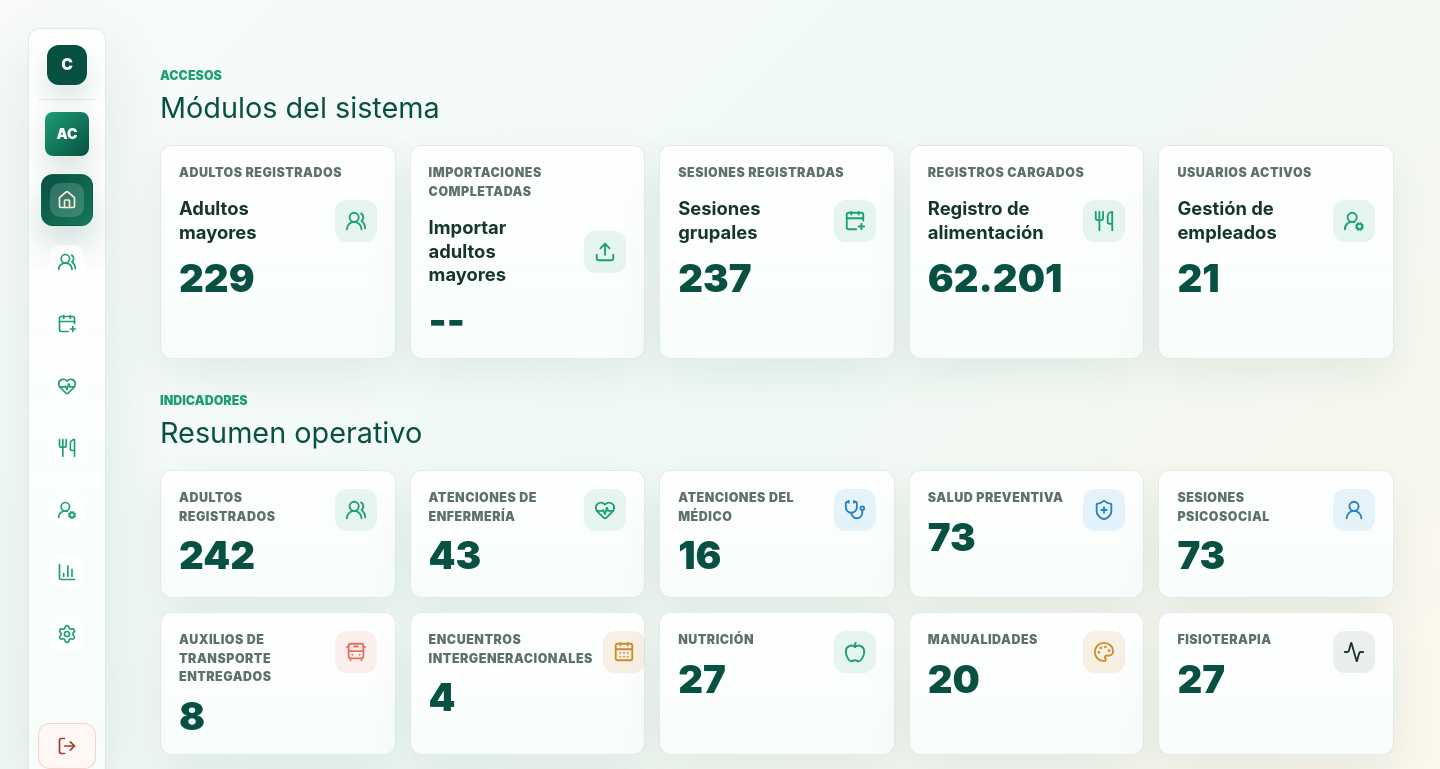
it: App home dashboard › navigates the nursing indicator to the nursing module
The width and height of the screenshot is (1440, 769).
Click the button "Atenciones de enfermería 43".
click(527, 534)  # box [410,470,645,598]
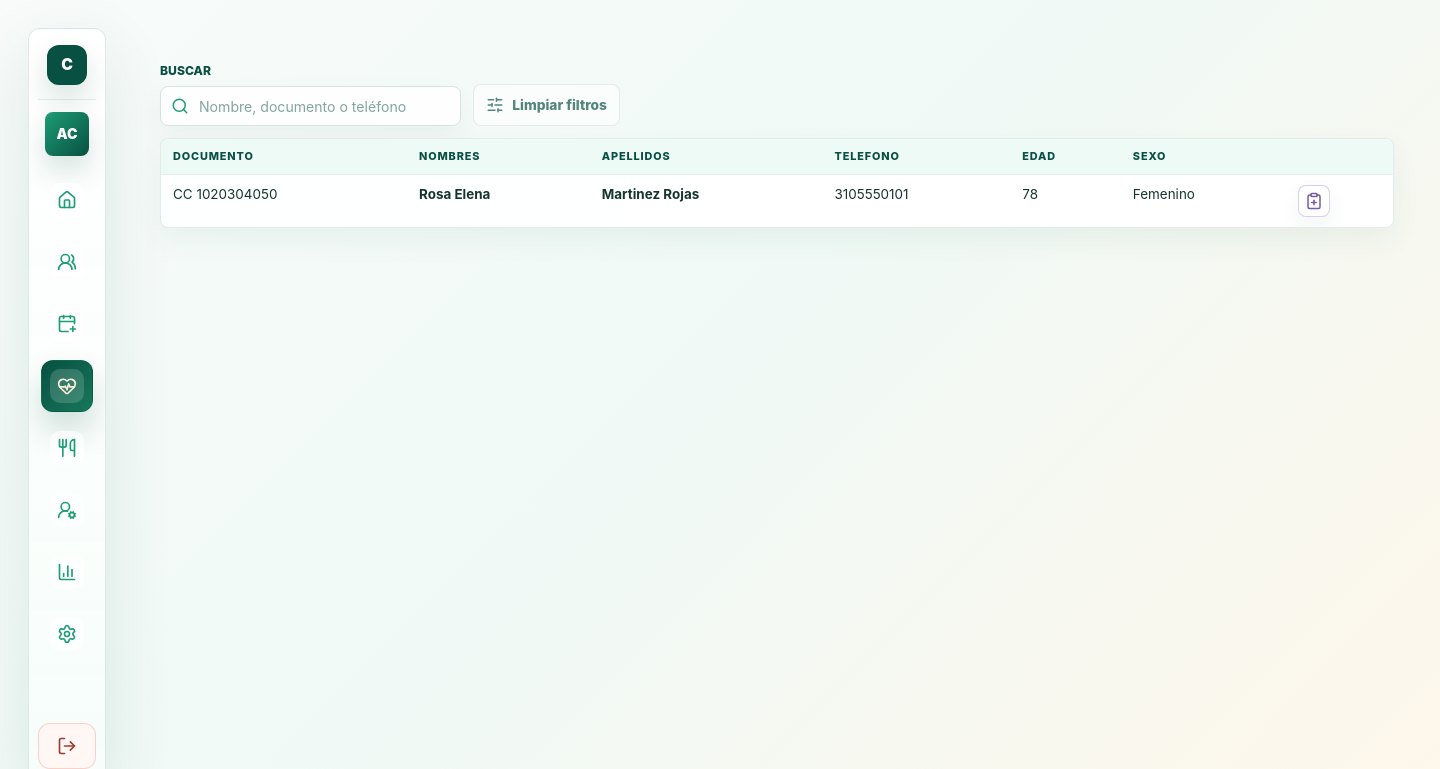
Now the element named "Filtros de enfermería" is shown, box [160,63,620,126]
